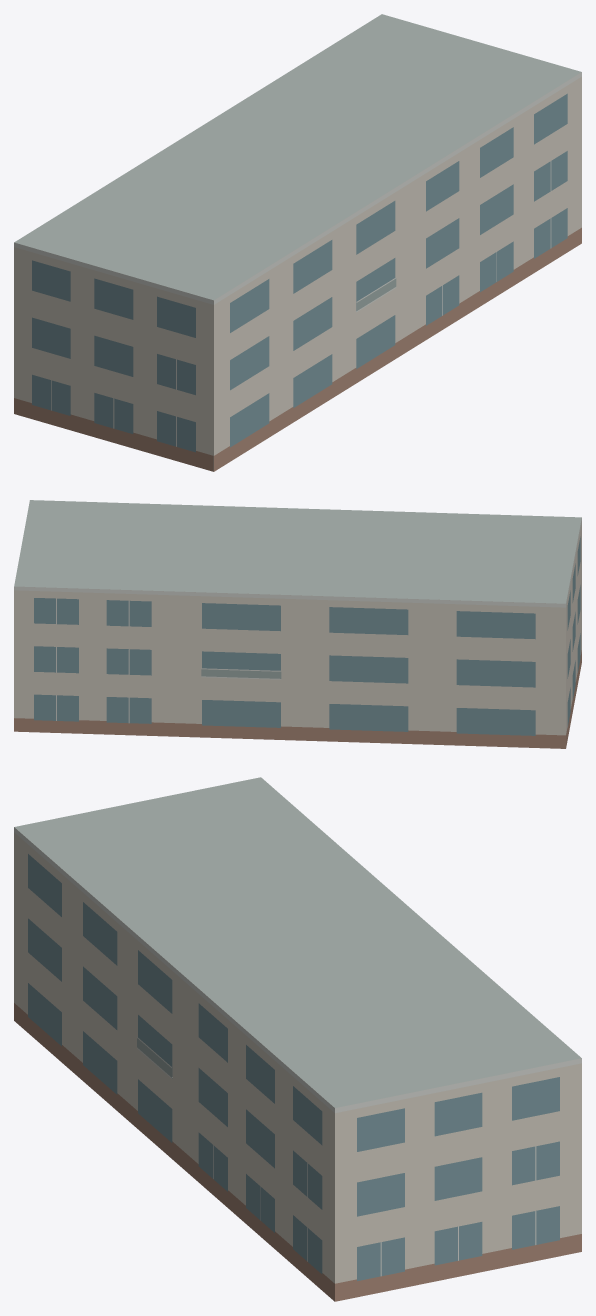
Rendered from survey-upis-32709133.glb.
3 renders of one model, top to bottom at view 1: azimuth 30°, elevation 25°; view 2: azimuth 150°, elevation 25°; view 3: azimuth 270°, elevation 25°, orthographic. The views are drawn at different scales.
Visible parts, largest first — view 1: survey-upis-32709133.tmp; view 2: survey-upis-32709133.tmp; view 3: survey-upis-32709133.tmp.
Part boxes in pixels (box(x1,y1,x2,y2)): survey-upis-32709133.tmp: box(14, 14, 581, 471); survey-upis-32709133.tmp: box(14, 500, 581, 748); survey-upis-32709133.tmp: box(14, 777, 581, 1301).
Bounding box in the file's own units: 33.54 × 9.15 × 24.32.
